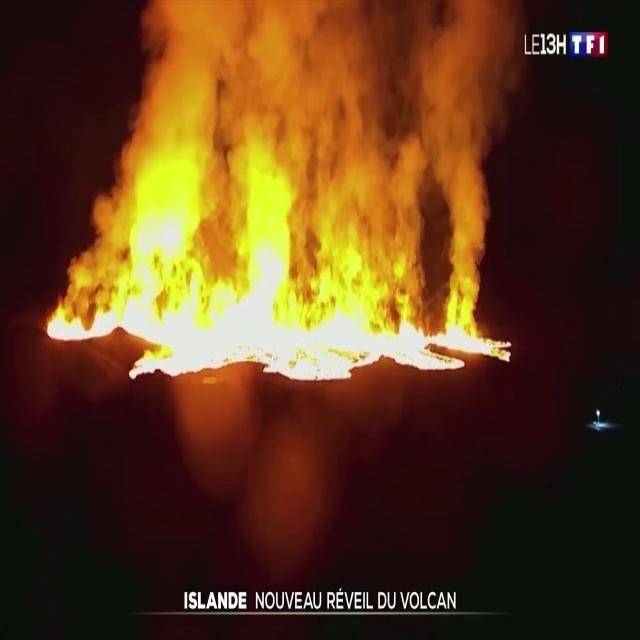Fire: (48, 246, 490, 380)
Smoke: (32, 0, 514, 252)
